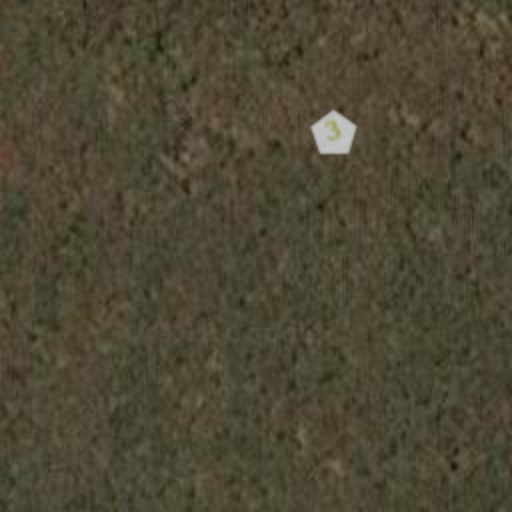pentagon: (302, 102, 366, 166)
